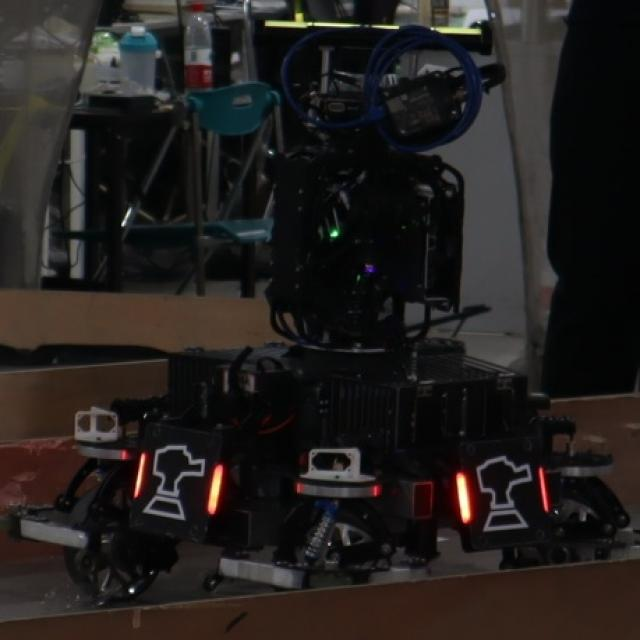Rs: (453, 445, 551, 537), (128, 440, 226, 526)
